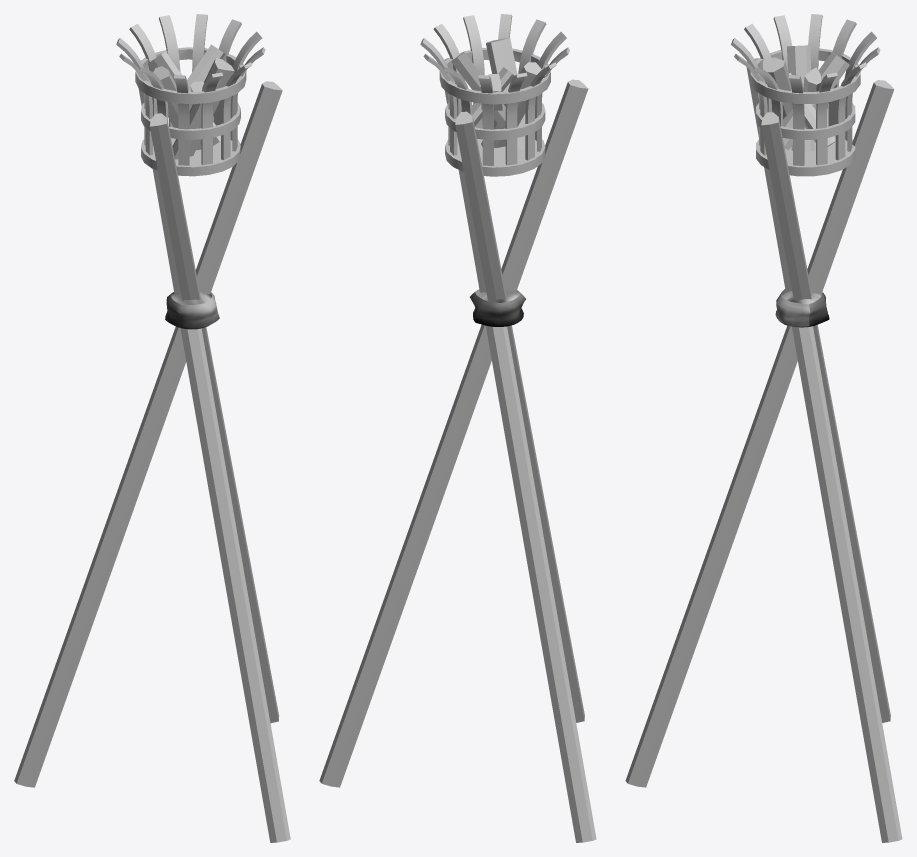
The model's file is akari_1.fbx.
3 views of the same model, side by side, from view 1: azimuth 30°, elevation 25°; view 2: azimuth 150°, elevation 25°; view 3: azimuth 270°, elevation 25° (orthographic).
Parts seen in each view (by area): view 1: pCylinder29; view 2: pCylinder29; view 3: pCylinder29.
Part boxes in pixels (<box>): pCylinder29: <box>14,14,290,842</box>; pCylinder29: <box>319,14,596,842</box>; pCylinder29: <box>625,14,902,842</box>.
Bounding box in the file's own units: 123 × 325 × 110.
